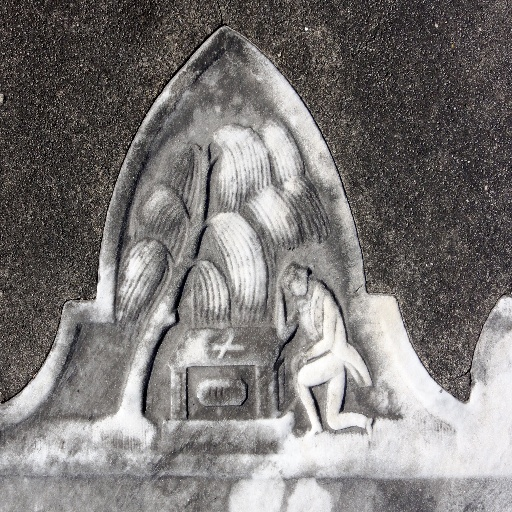hand: (290, 353, 301, 378), (276, 269, 285, 290)
